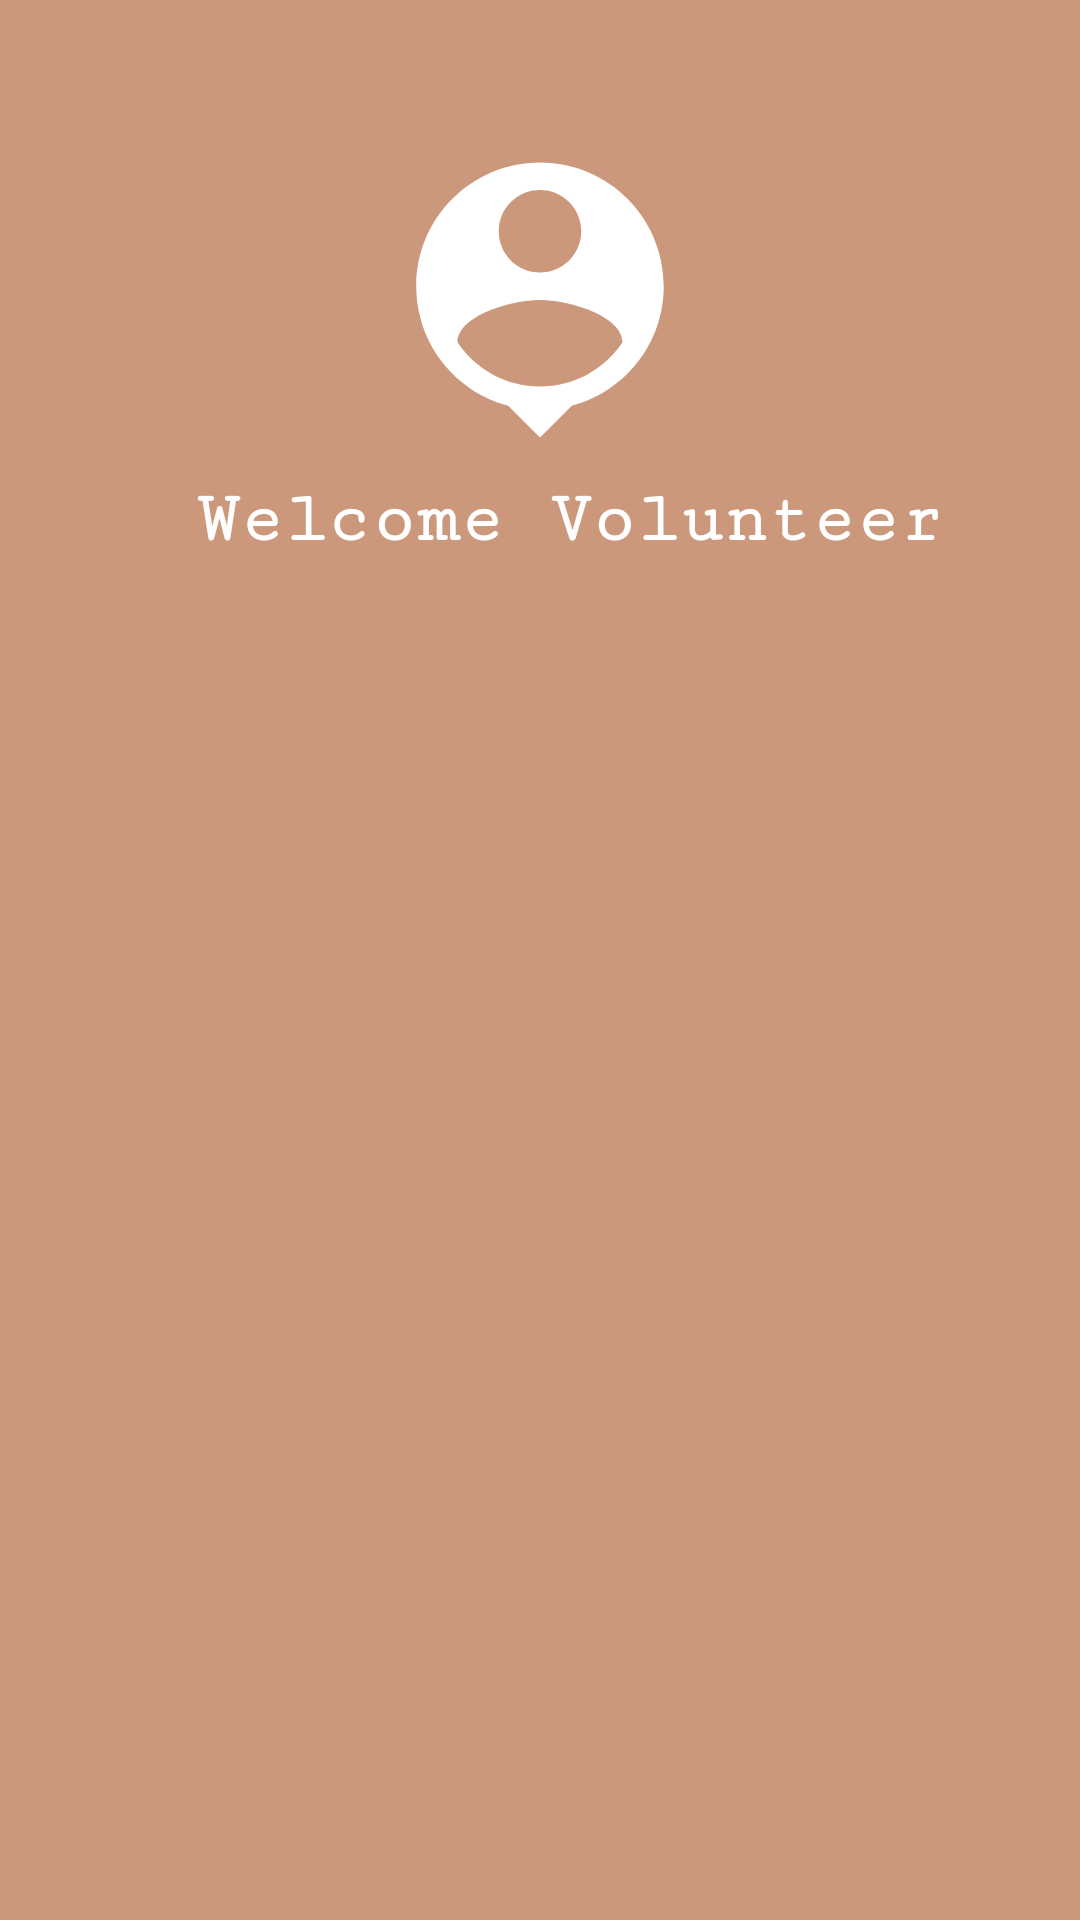

Where to tap for icons on this 1080x1920 app screen, as (x,y):
person: (540,299)
